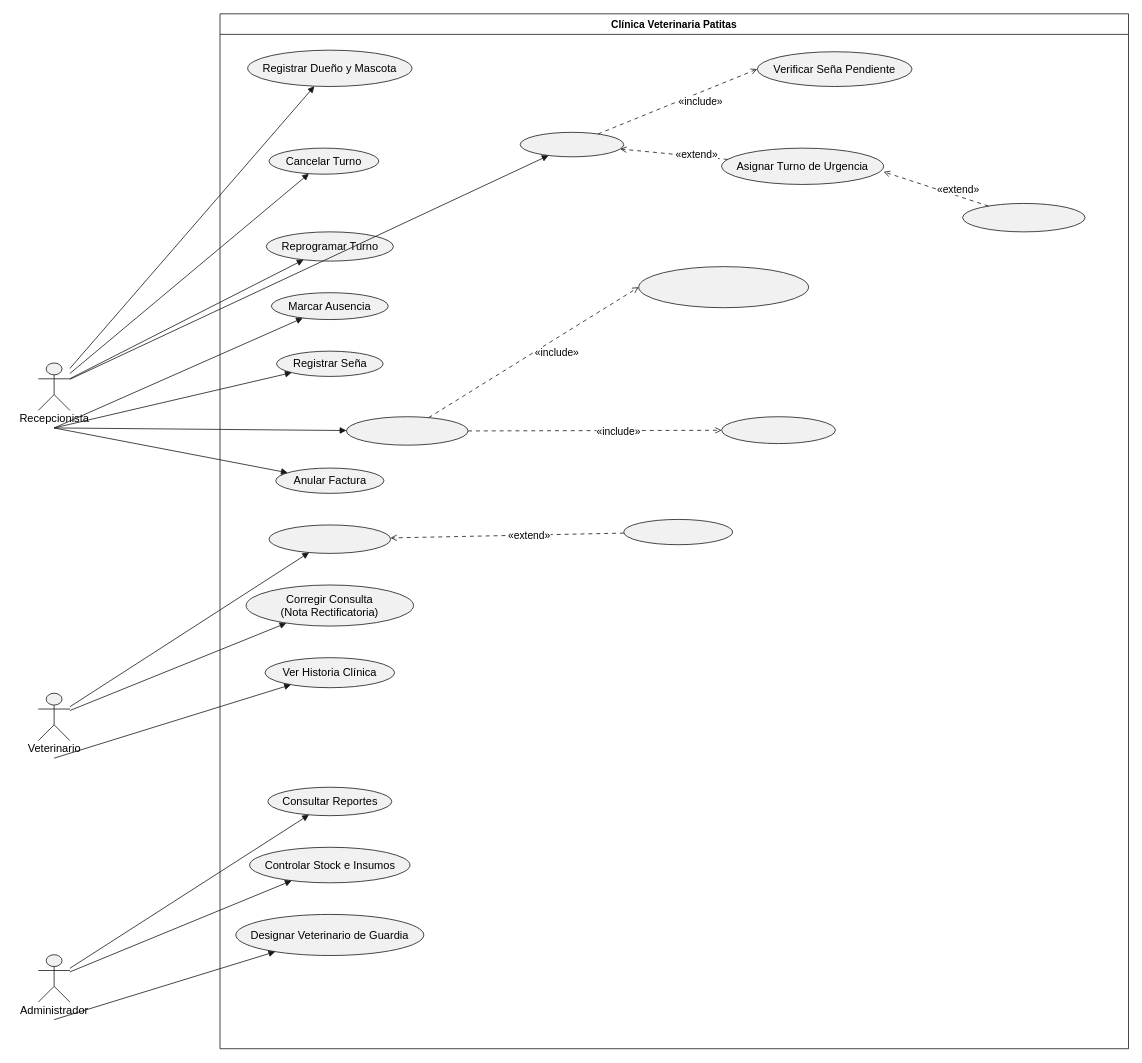
Some shapes in this 1142 by 1063 pixel diagram are drawn without their labels. Here are the shapes that lost their labels. From the top down, the centre of each, then its label:
[571,144]: Asignar Turno
[1023,217]: Notificar al Dueño
[723,287]: Calcular Total (Descuento/Recargo)
[407,430]: Facturar Atención
[778,430]: Descontar Stock
[329,538]: Registrar Consulta
[678,532]: Aplicar Vacuna
